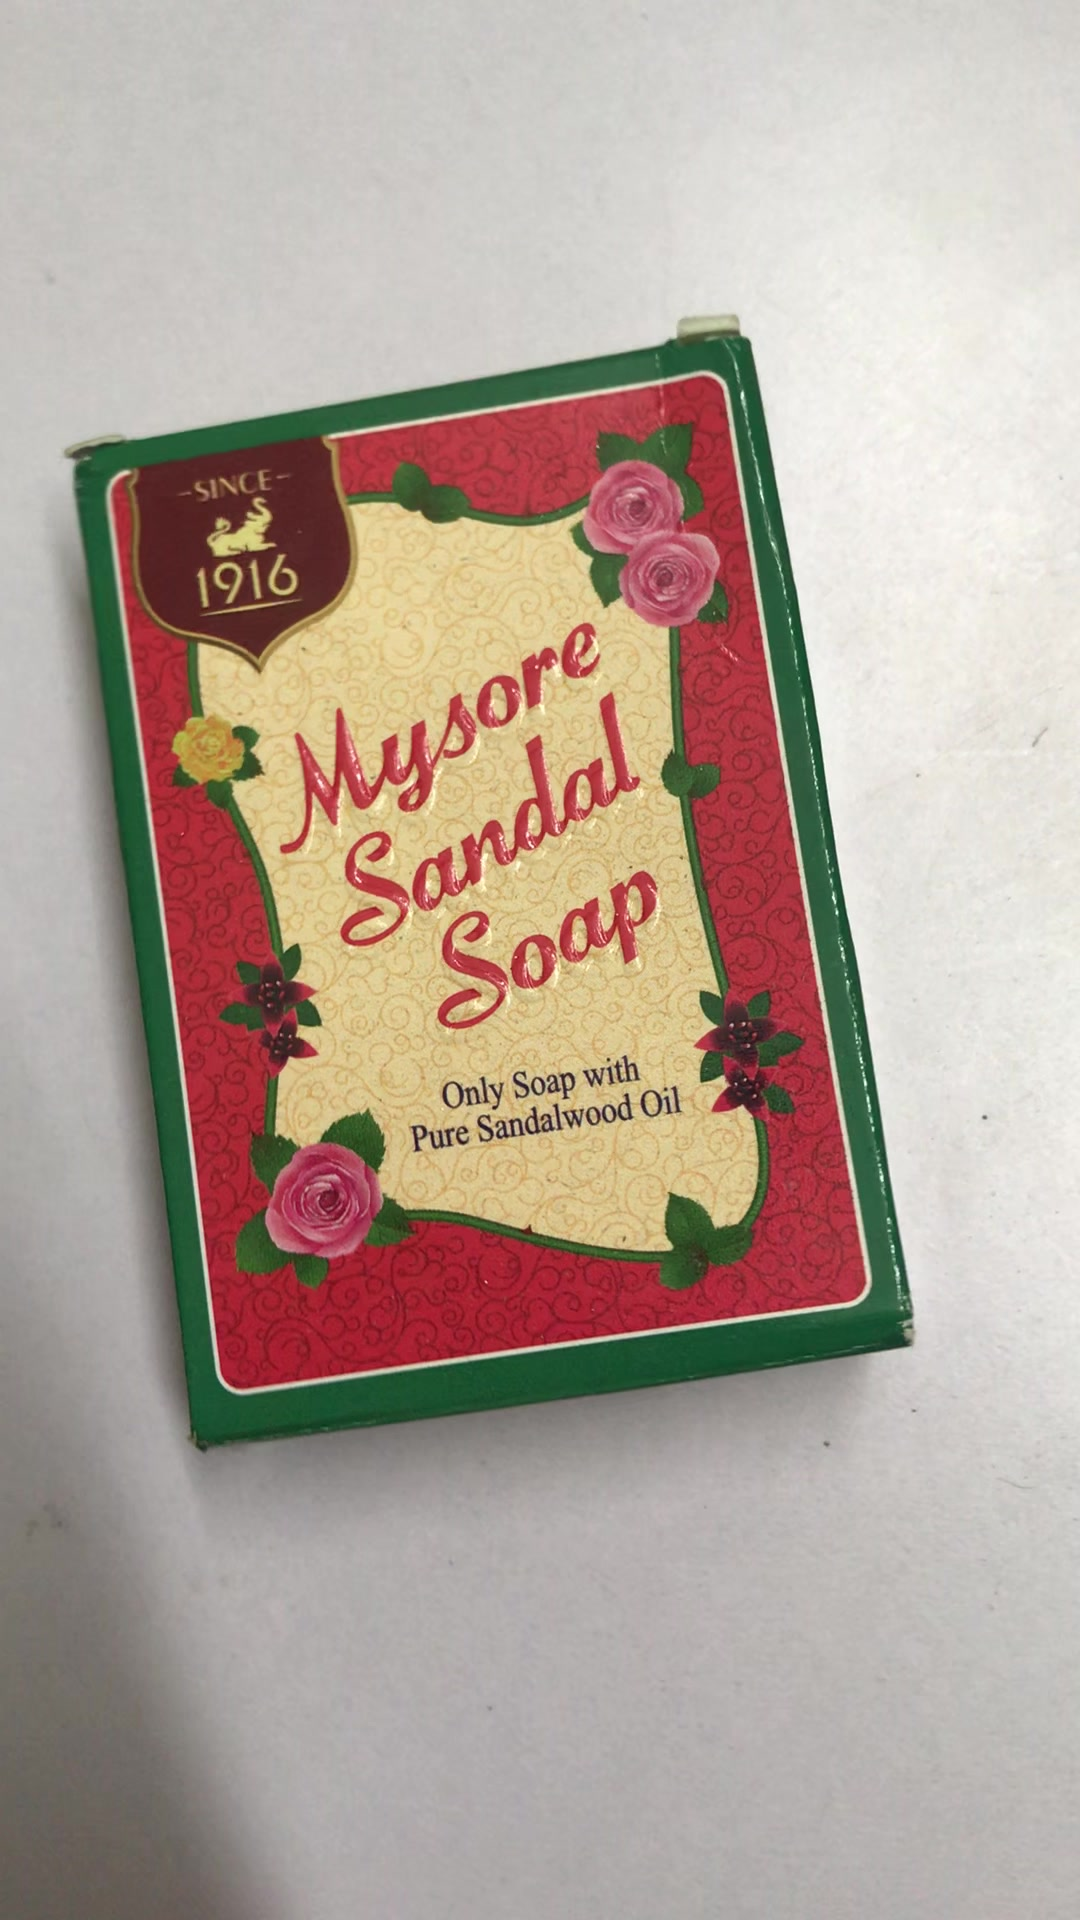mysore sandal soap: (74, 331, 915, 1461)
